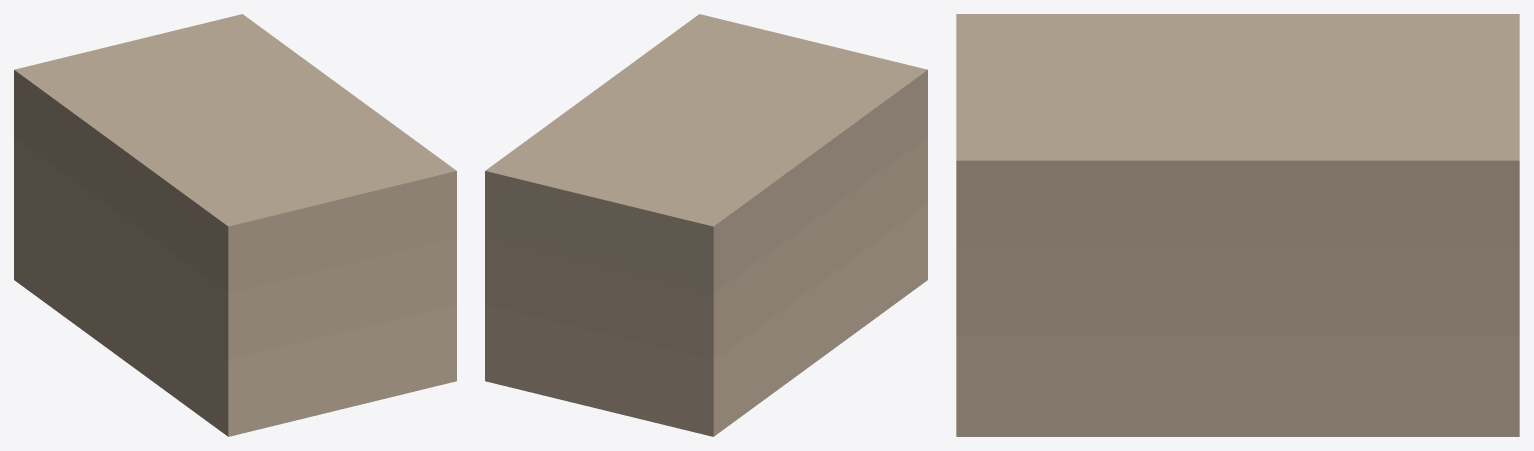
The model's file is massing.glb.
3 renders of one model, left to right at view 1: azimuth 30°, elevation 25°; view 2: azimuth 150°, elevation 25°; view 3: azimuth 270°, elevation 25°, orthographic. The views are drawn at different scales.
Parts seen in each view (by area): view 1: main/floor3/0, main/floor1/0, main/floor2/0; view 2: main/floor3/0, main/floor1/0, main/floor2/0; view 3: main/floor3/0, main/floor1/0, main/floor2/0.
Boxes of the visible parts, box(x1,y1,x2,y2) form: main/floor3/0: box(14, 14, 456, 293); main/floor1/0: box(14, 204, 456, 436); main/floor2/0: box(14, 137, 456, 360); main/floor3/0: box(485, 14, 927, 293); main/floor1/0: box(485, 204, 927, 436); main/floor2/0: box(485, 137, 927, 360); main/floor3/0: box(956, 14, 1519, 248); main/floor1/0: box(956, 336, 1519, 436); main/floor2/0: box(956, 248, 1519, 336).
Size of the model in its own units: 10 by 8.8 by 16.25.
